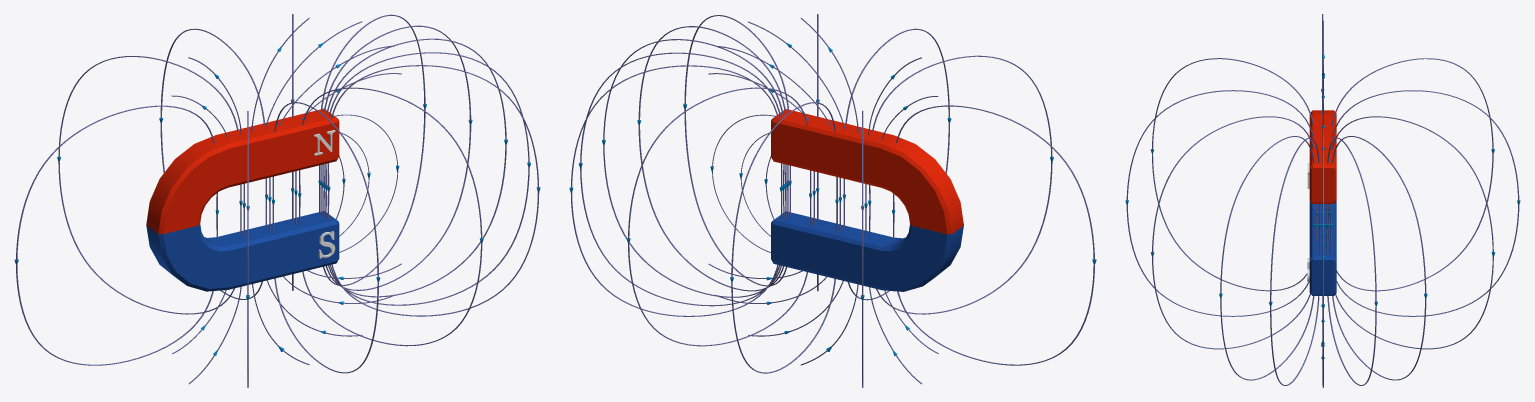
File: U_duotao.fbx
3 renders of one model, left to right at view 1: azimuth 30°, elevation 25°; view 2: azimuth 150°, elevation 25°; view 3: azimuth 270°, elevation 25°, orthographic. The views are drawn at different scales.
Parts seen in each view (by area): view 1: polySurface9; view 2: polySurface9; view 3: polySurface9.
Boxes of the visible parts, bbox=[...] form: polySurface9: bbox=[14, 14, 540, 387]; polySurface9: bbox=[569, 14, 1096, 387]; polySurface9: bbox=[1125, 14, 1520, 387].
Size of the model in its own units: 38.38 by 25.83 by 29.53.
